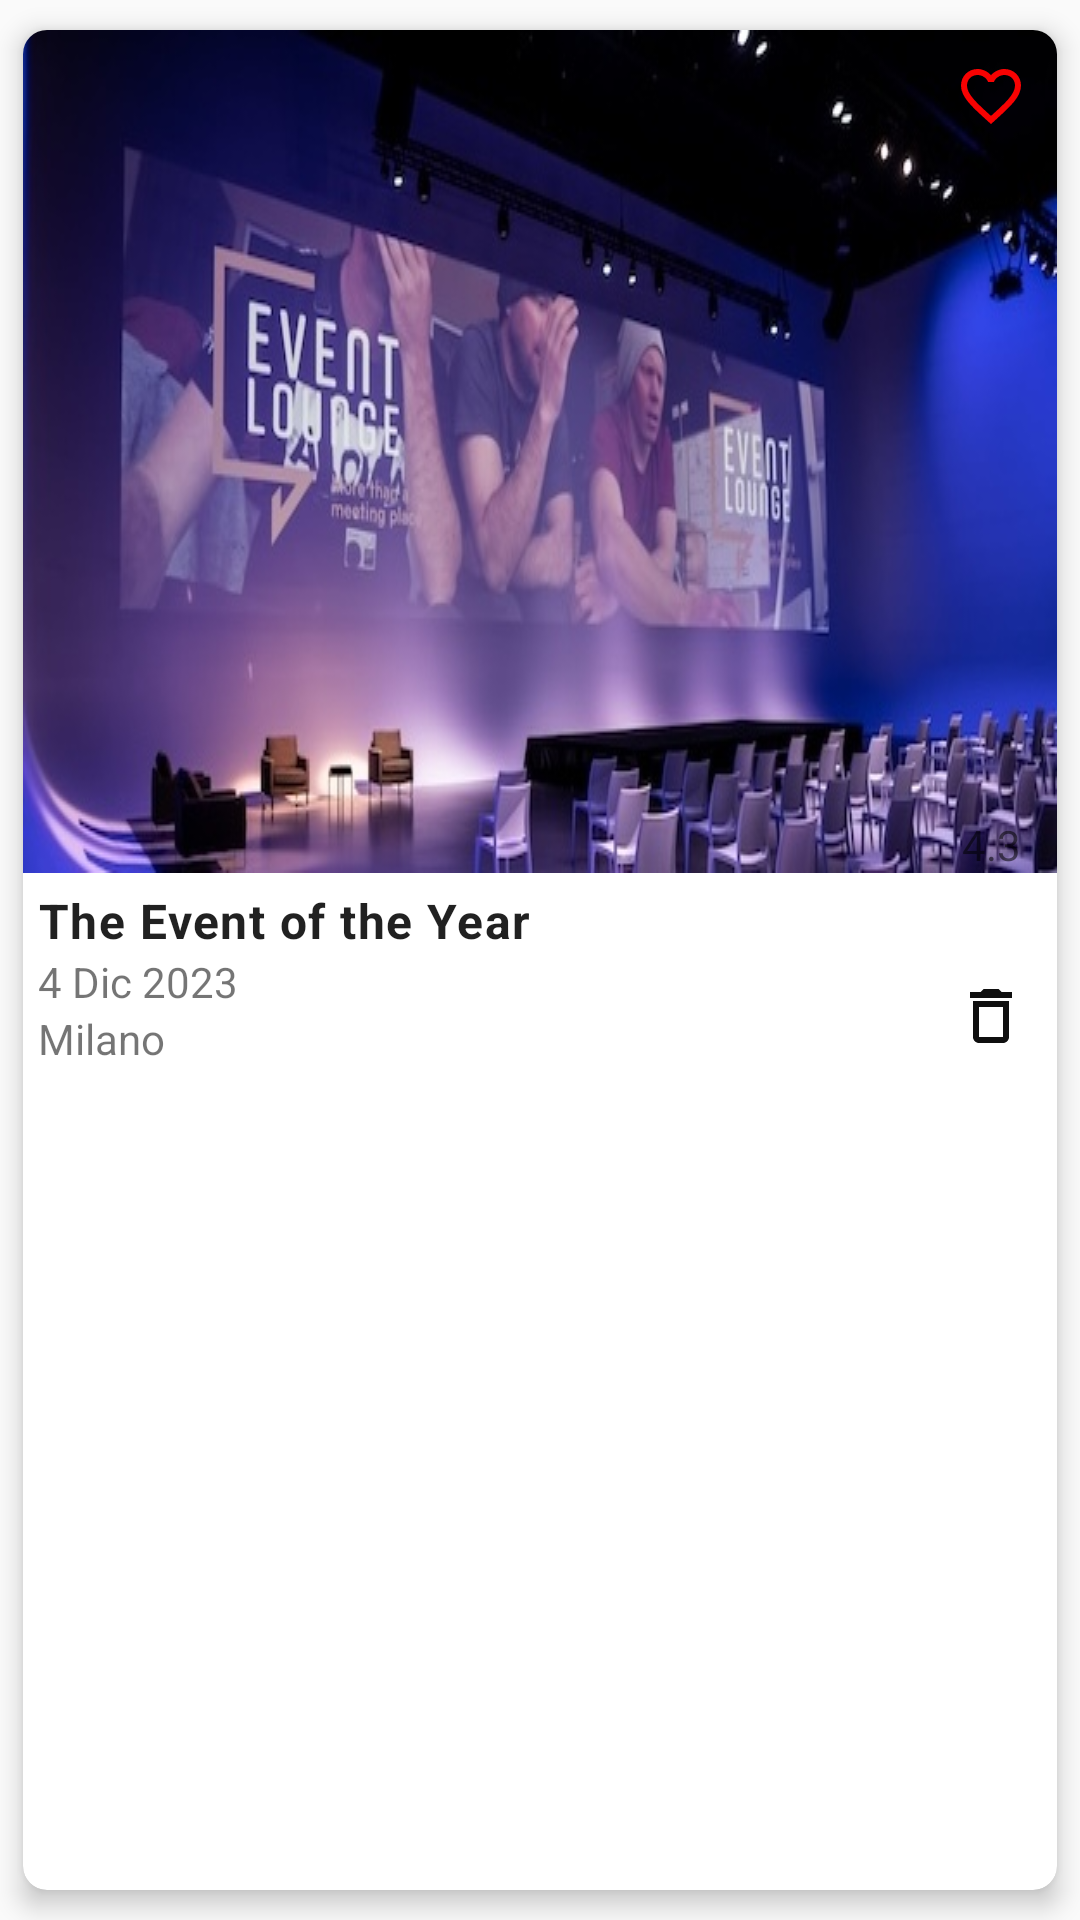

Screen size 1080 x 1920. Icon name, then its box in pixels as [x1=x1, y1=y1, x2=x2, y2=y2]:
delete: [x1=970, y1=989, x2=1012, y2=1043]
fav: [x1=961, y1=69, x2=1021, y2=124]
